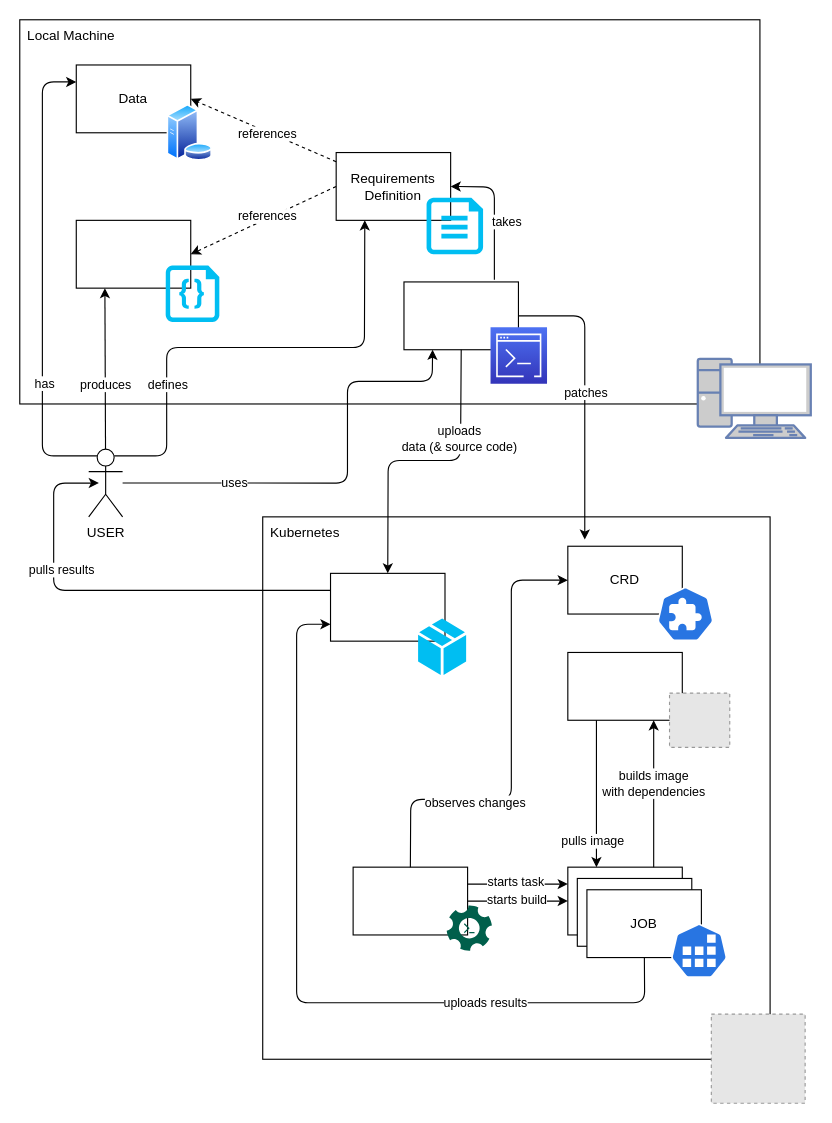
The diagram is 832 pixels wide and 1123 high, and some of its shapes have lost their labels. Grey dashed boxes stand in for pictures. Here are the shapes that lost their labels. From the top down, the centre of each, then its label:
the point at 133,253: Source Code
the point at 460,315: execDAT-CLI
the point at 387,606: Storage Bucket
the point at 624,685: Registry
the point at 410,900: Operator
